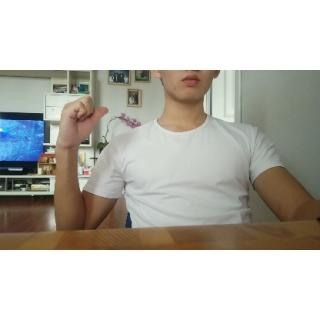WAW: (52, 92, 110, 154)
